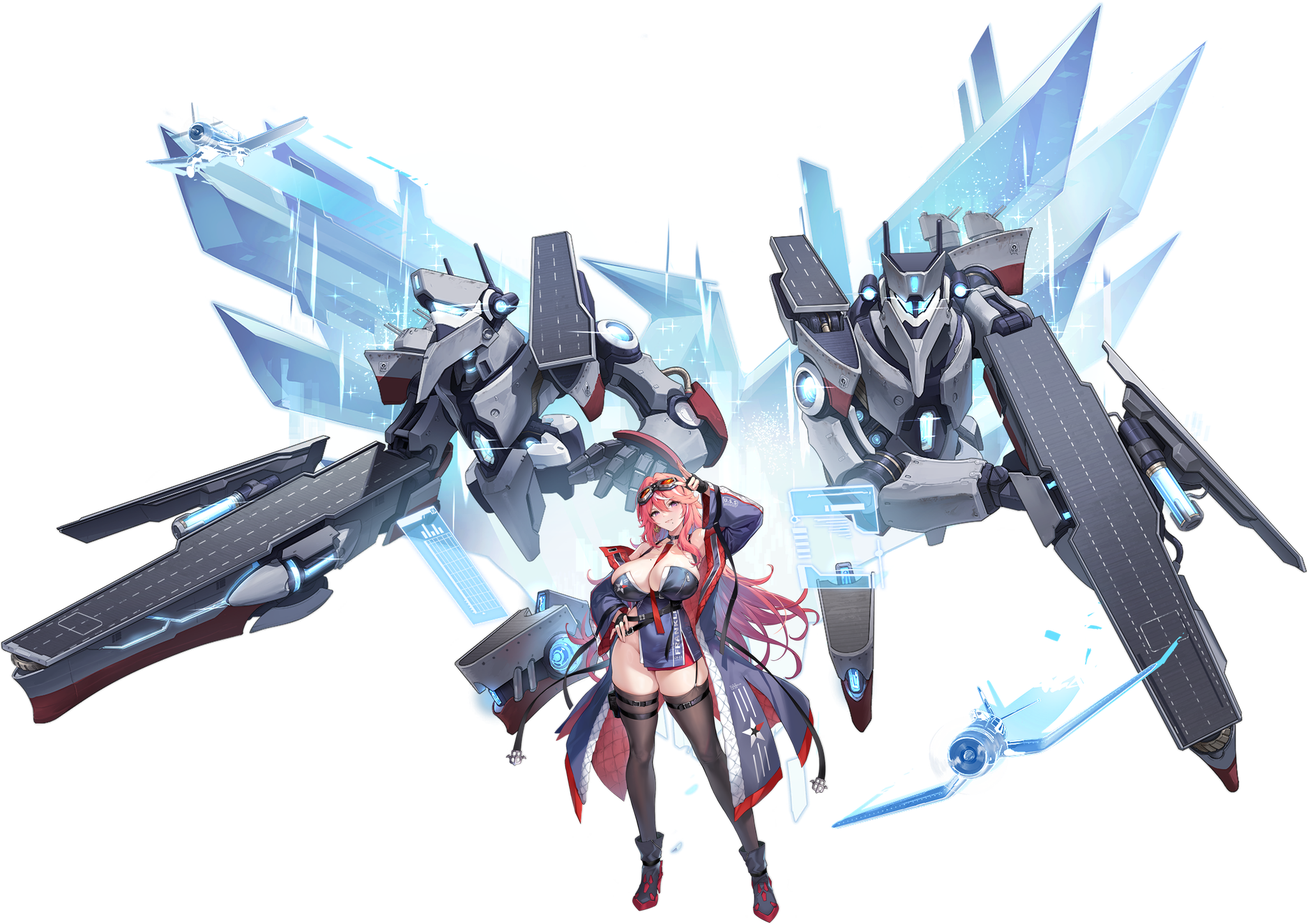person: (510, 446, 823, 923)
